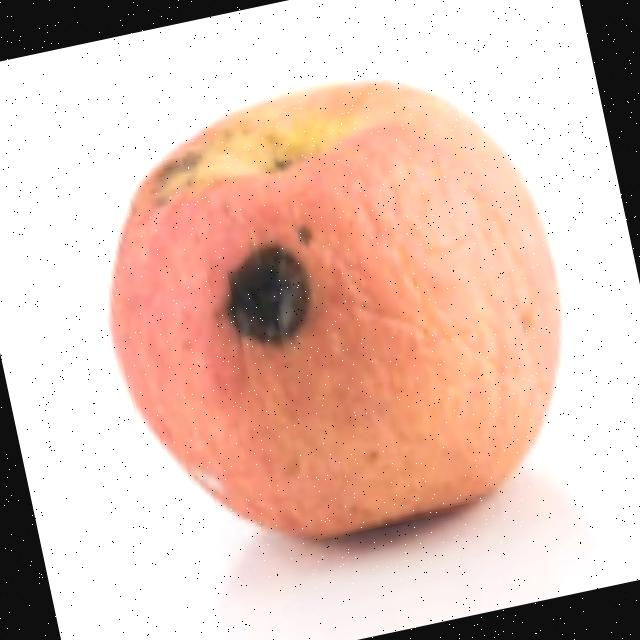Rotten: (62, 38, 612, 584)
